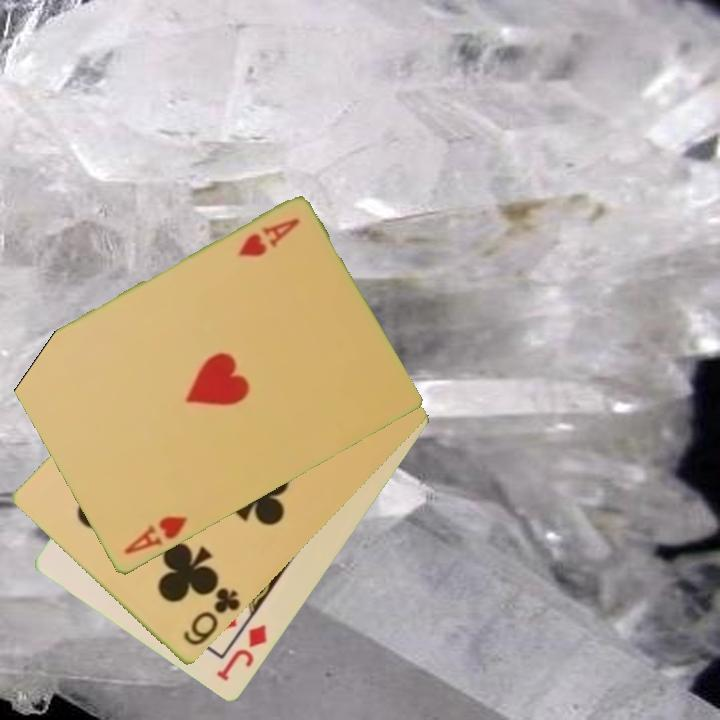6c: (179, 585, 243, 649)
Ah: (120, 513, 191, 558), (234, 215, 303, 261)
Jd: (213, 621, 271, 685)
